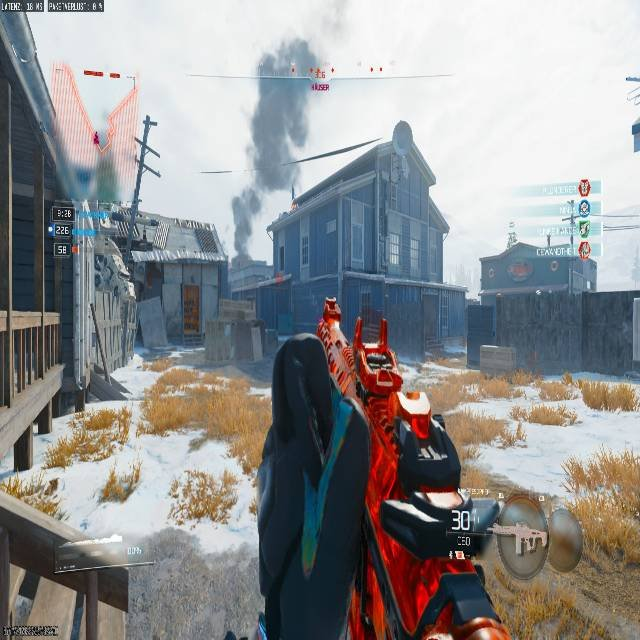head: (325, 297, 336, 309)
player: (318, 298, 343, 355)
